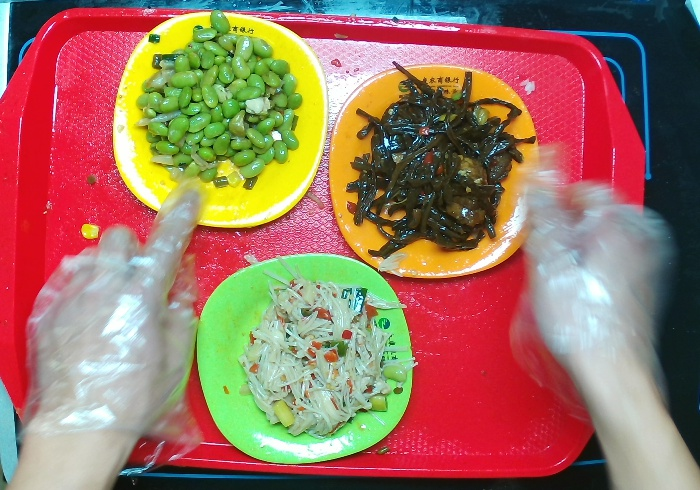YKMZ-Huang_Se_Fang_Die: (105, 8, 331, 230)
YKMZ-Ju_Se_Fang_Die: (322, 58, 546, 286)
YKMZ-Lv_Se_Fang_Die: (191, 247, 417, 473)
